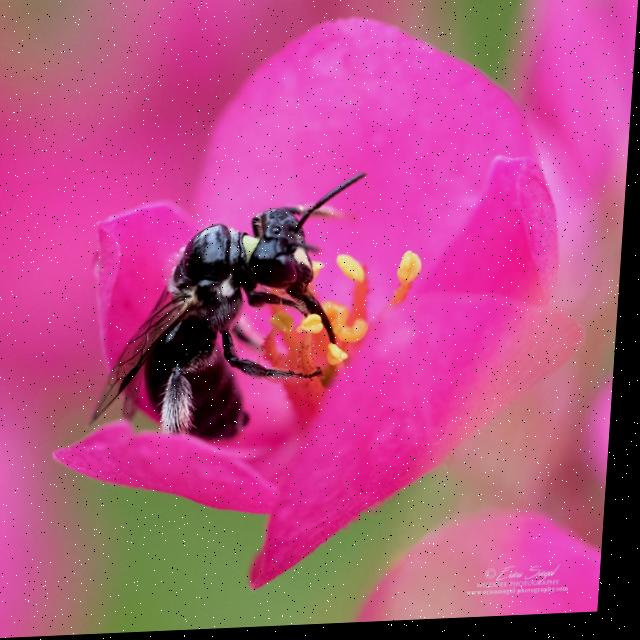Meliponula: (87, 156, 377, 496)
